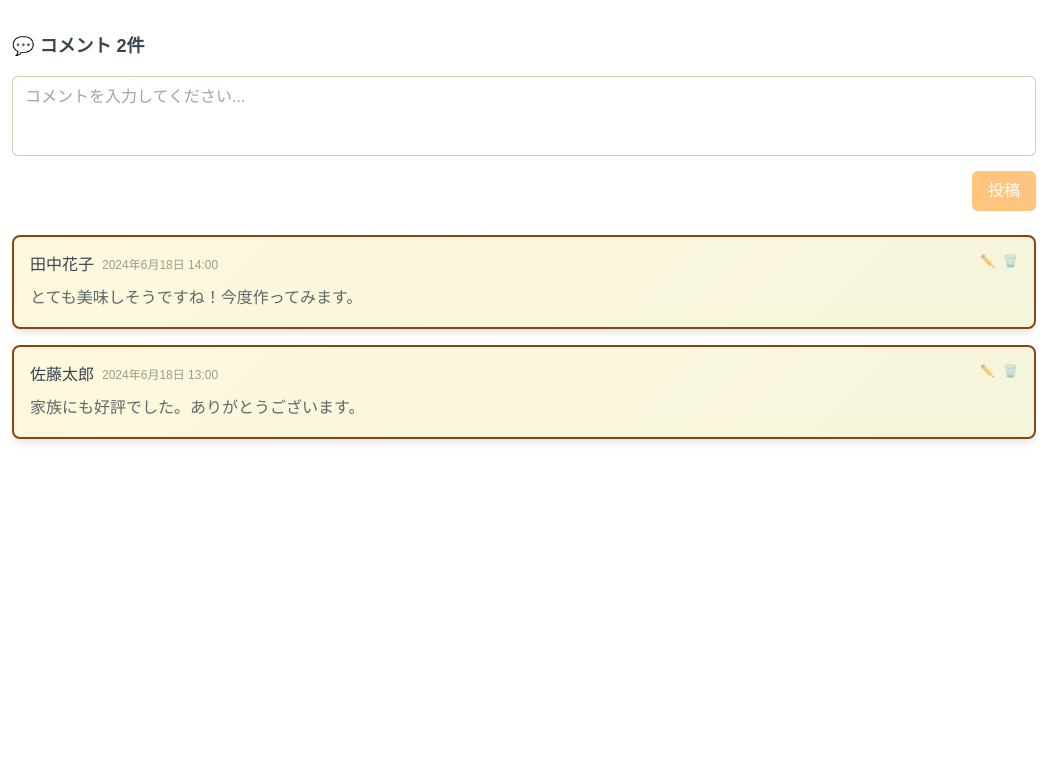
Test: CommentSection Component - Real-time › should handle comment editing
Click the button titled "編集" in the row of "2024年6月18日 14:00". click: (988, 261)
box: [980, 253, 995, 269]
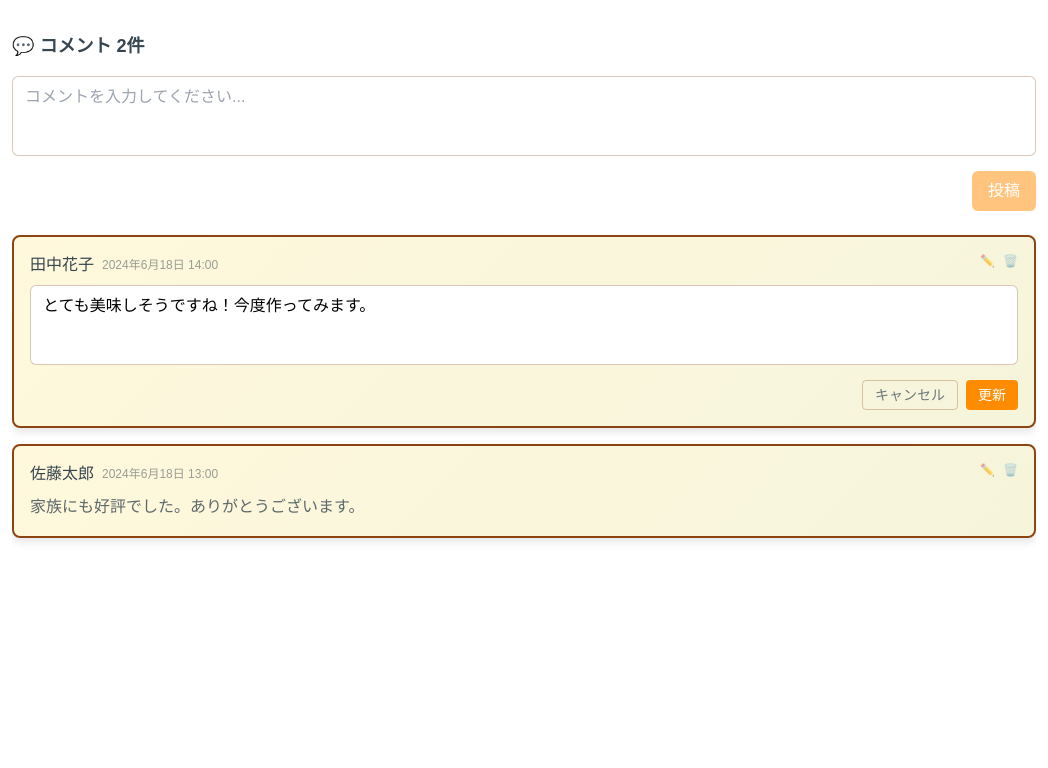
Expected: the text box with placeholder "コメントを編集..." is shown, [30, 285, 1018, 365]
Expected: the button "更新" is shown, [966, 380, 1018, 410]
Expected: the button "キャンセル" is shown, [862, 380, 958, 410]
